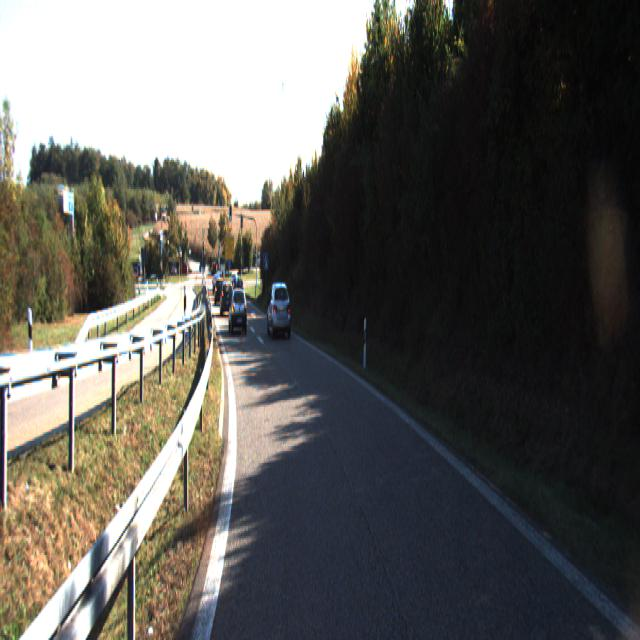Car: (267, 278, 291, 336), (229, 286, 248, 334), (220, 282, 235, 316)
